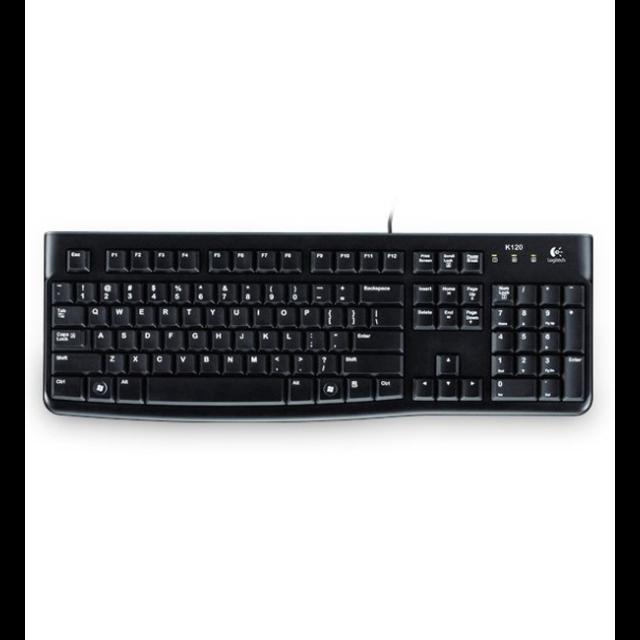Computer-Keyboard: (36, 227, 594, 426)
